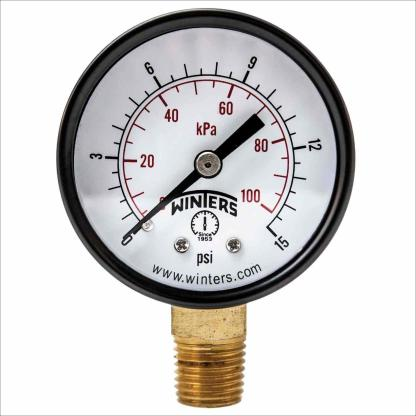needle: (124, 170, 201, 241)
